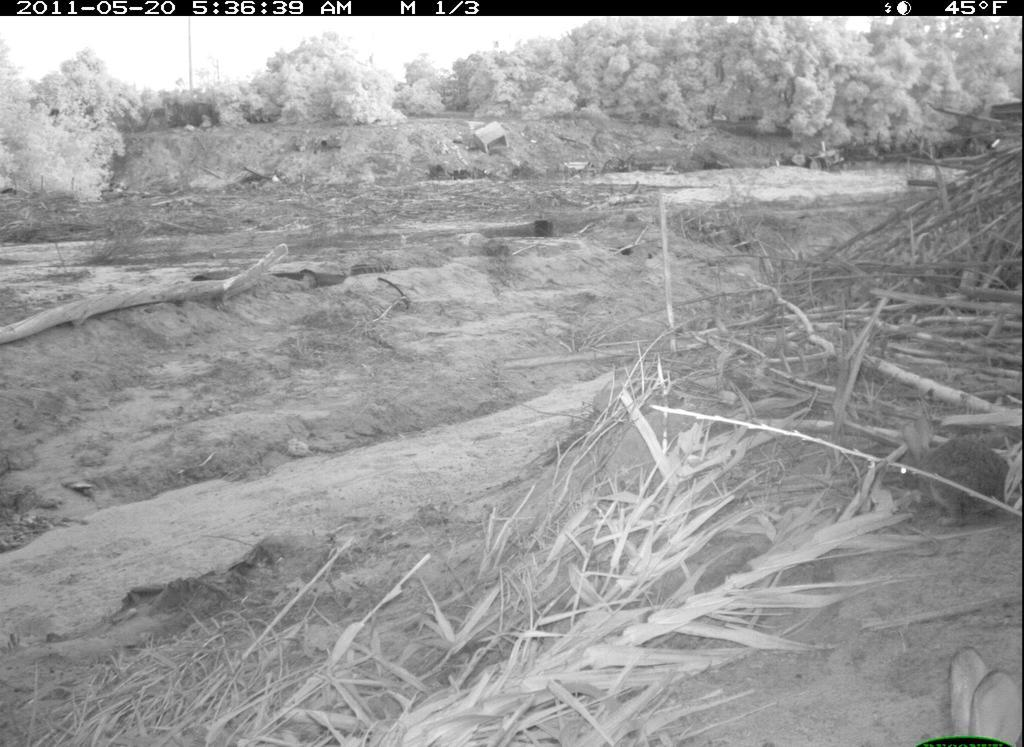rabbit: (940, 642, 1019, 747)
